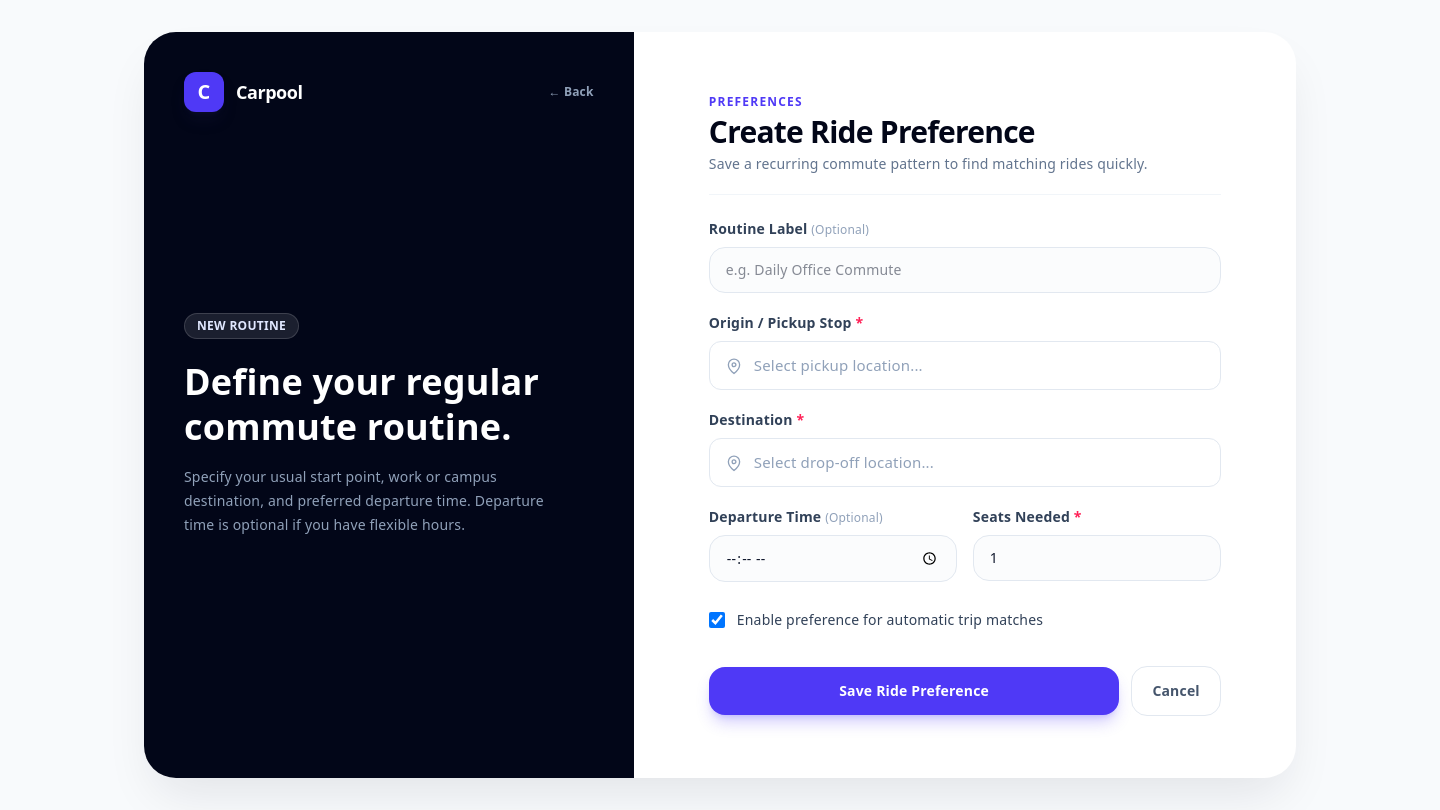
Test: CreateRidePreferencePage › validates that origin and destination are required
Click the button "Save Ride Preference".
click(914, 691)  # box [709,667,1119,715]
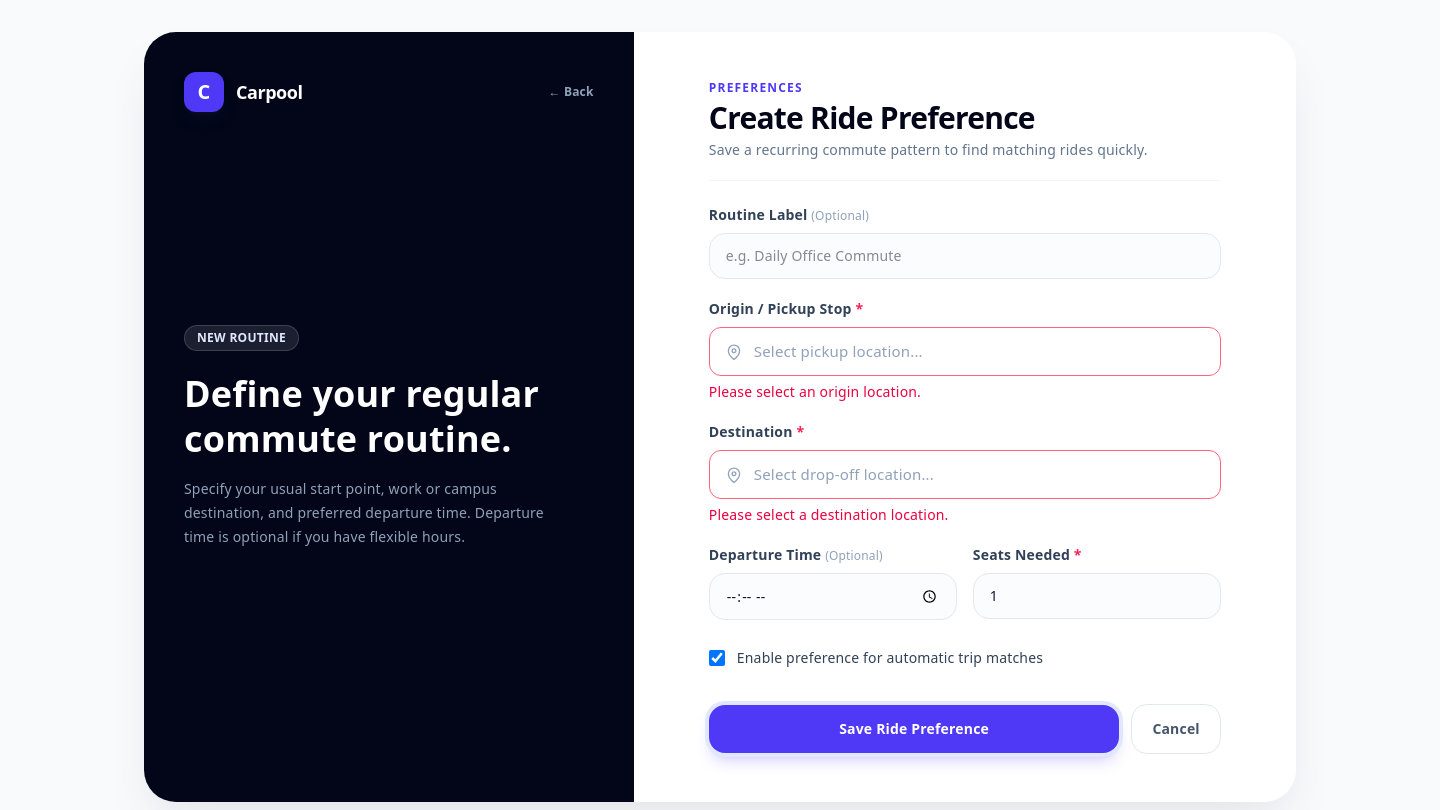
Check: the text "Please select an origin location." is shown, box [709,382,921,401]
Check: the text "Please select a destination location." is shown, box [709,505,949,524]
